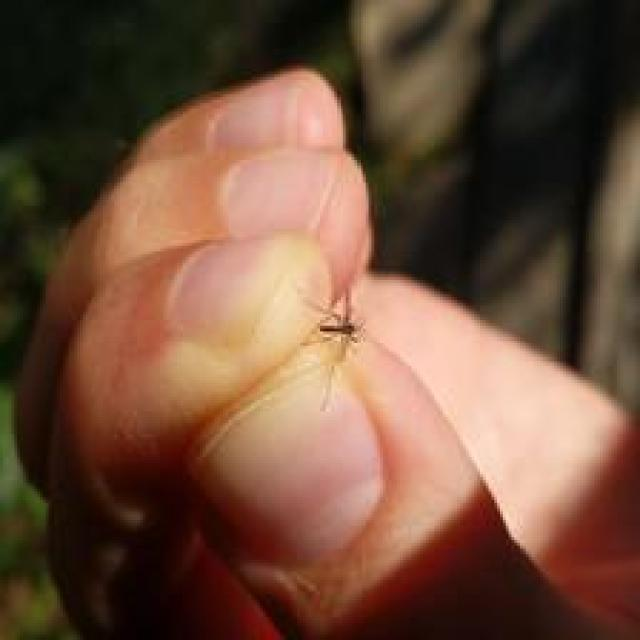Aedes albopictus: (304, 286, 367, 414)
